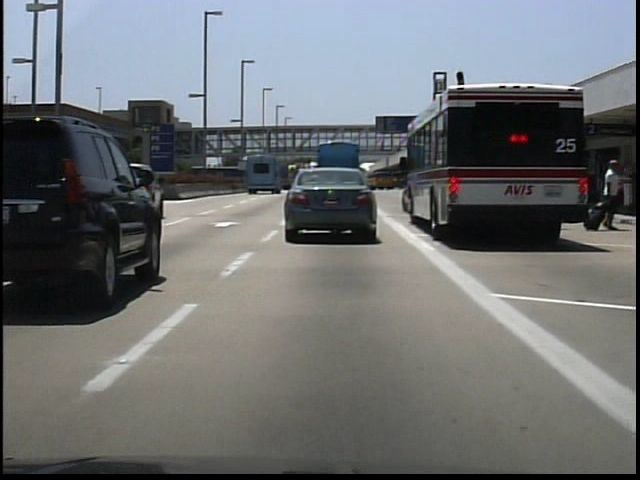person: (594, 155, 622, 234), (378, 137, 391, 157)
